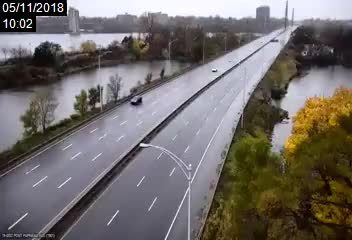personal_car: (130, 95, 143, 105), (211, 67, 218, 73)
